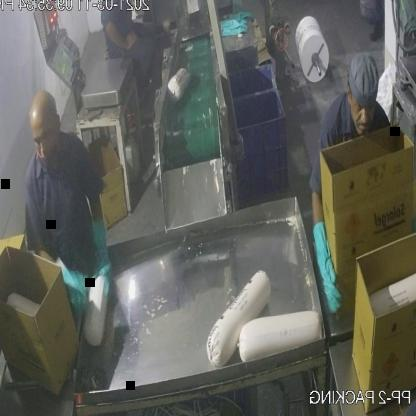no_glove: (102, 22, 136, 52)
